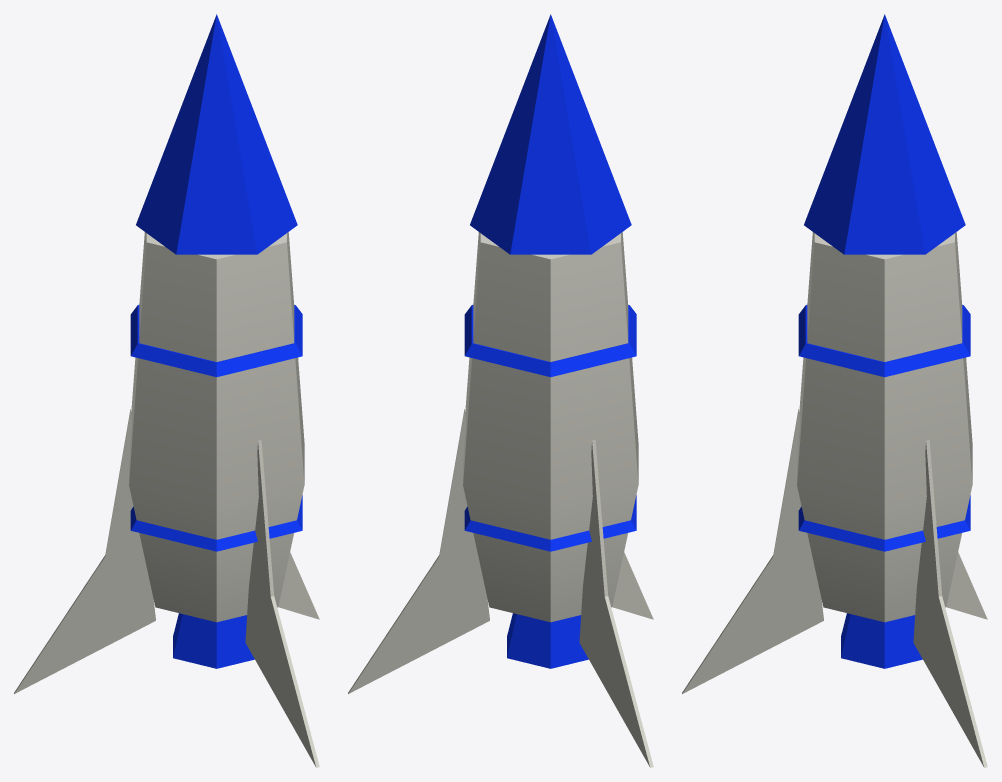
File: Rocket_08_Origami.obj
3 renders of one model, left to right at view 1: azimuth 30°, elevation 25°; view 2: azimuth 150°, elevation 25°; view 3: azimuth 270°, elevation 25°, orthographic.
Visible parts, largest first — view 1: R08_Body, R08_Nose, R08_PaperFin_2, R08_PaperFin_3, R08_Nozzle, R08_Fold_2, R08_Fold, R08_PaperFin; view 2: R08_Body, R08_Nose, R08_PaperFin, R08_PaperFin_2, R08_Nozzle, R08_Fold_2, R08_Fold, R08_PaperFin_3; view 3: R08_Body, R08_Nose, R08_PaperFin_3, R08_PaperFin, R08_Nozzle, R08_Fold_2, R08_Fold, R08_PaperFin_2.
Part boxes in pixels (x1=…): R08_Body: x1=129, y1=232, x2=304, y2=622; R08_Nose: x1=136, y1=14, x2=297, y2=254; R08_PaperFin_2: x1=14, y1=409, x2=155, y2=693; R08_PaperFin_3: x1=245, y1=440, x2=319, y2=767; R08_Nozzle: x1=173, y1=613, x2=254, y2=668; R08_Fold_2: x1=130, y1=305, x2=302, y2=377; R08_Fold: x1=130, y1=495, x2=302, y2=551; R08_PaperFin: x1=278, y1=552, x2=319, y2=619; R08_Body: x1=463, y1=232, x2=638, y2=622; R08_Nose: x1=470, y1=14, x2=631, y2=254; R08_PaperFin: x1=348, y1=409, x2=489, y2=693; R08_PaperFin_2: x1=579, y1=440, x2=653, y2=767; R08_Nozzle: x1=507, y1=613, x2=588, y2=668; R08_Fold_2: x1=464, y1=305, x2=636, y2=377; R08_Fold: x1=464, y1=495, x2=636, y2=551; R08_PaperFin_3: x1=612, y1=552, x2=653, y2=619; R08_Body: x1=797, y1=232, x2=972, y2=622; R08_Nose: x1=804, y1=14, x2=965, y2=254; R08_PaperFin_3: x1=682, y1=409, x2=823, y2=693; R08_PaperFin: x1=913, y1=440, x2=987, y2=767; R08_Nozzle: x1=841, y1=613, x2=922, y2=668; R08_Fold_2: x1=798, y1=305, x2=970, y2=377; R08_Fold: x1=798, y1=495, x2=970, y2=551; R08_PaperFin_2: x1=946, y1=552, x2=987, y2=619.
Size of the model in its own units: 3.48 by 7.4 by 3.02.
